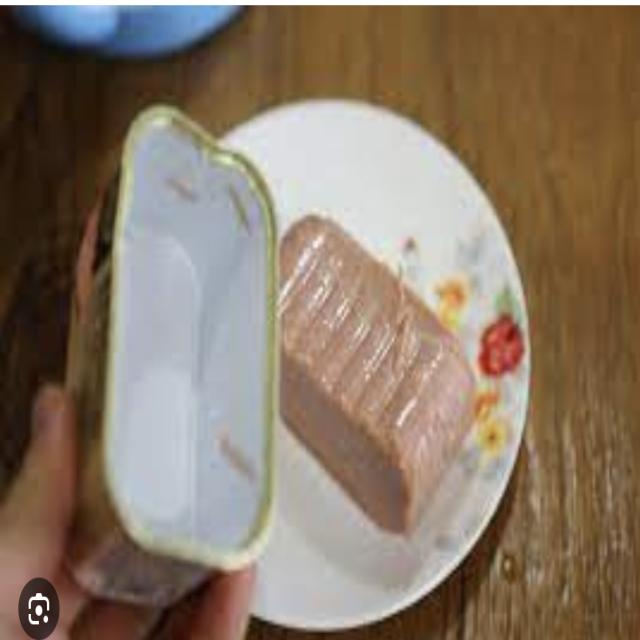recyclable: (67, 74, 283, 609)
